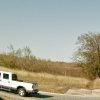Tree: (67, 21, 100, 85)
